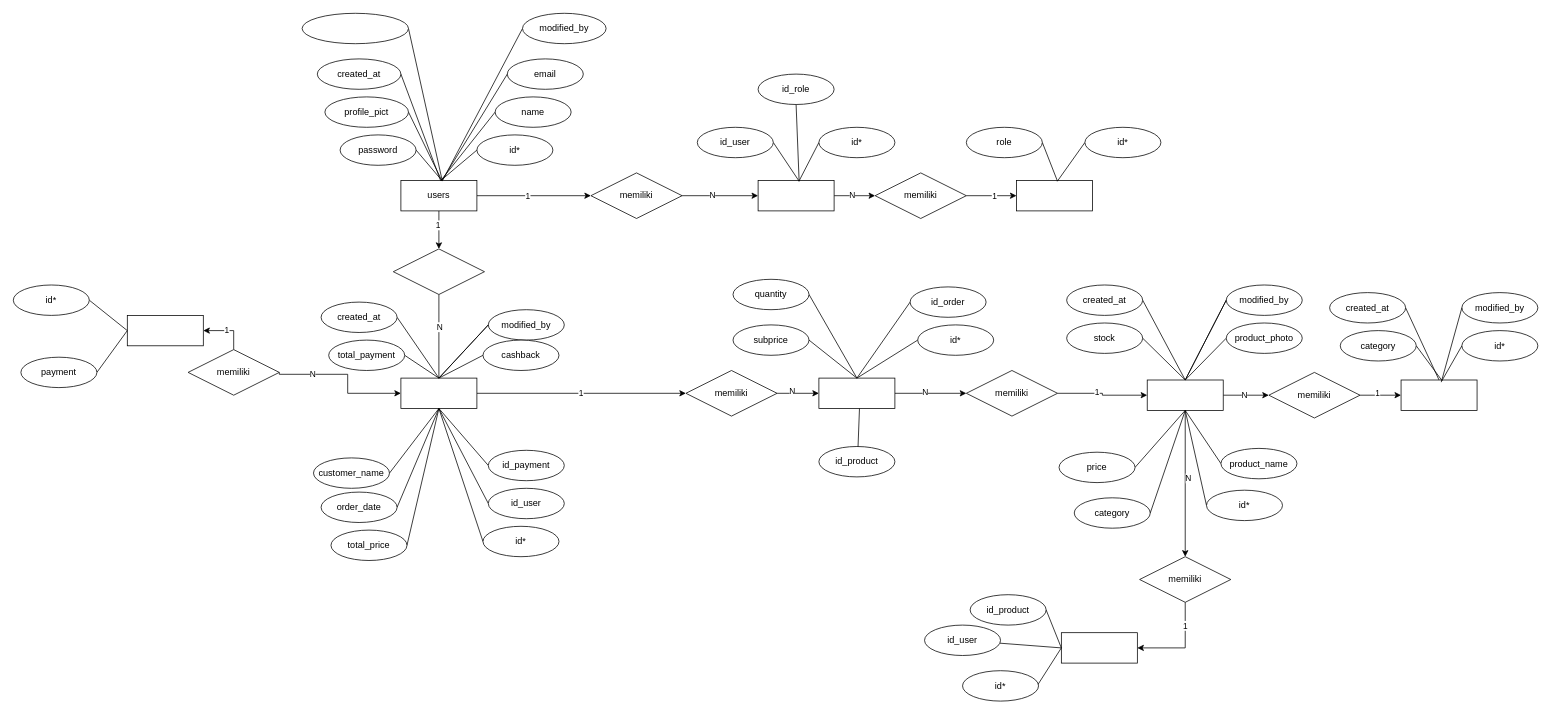
The diagram is 1551 pixels wide and 714 high, and some of its shapes have lost their labels. The box of each missing label's shape, as (x1, y1, x2, y2) in pixels:
categories: (1400, 379, 1477, 410)
charts: (1061, 632, 1137, 663)
memesan: (393, 248, 484, 294)
order_details: (818, 377, 895, 408)
orders: (400, 377, 477, 408)
password_verifed_at: (301, 13, 408, 44)
payemnt_types: (127, 315, 203, 346)
products: (1146, 379, 1223, 410)
roles: (1016, 180, 1092, 211)
user_roles: (757, 180, 834, 211)
